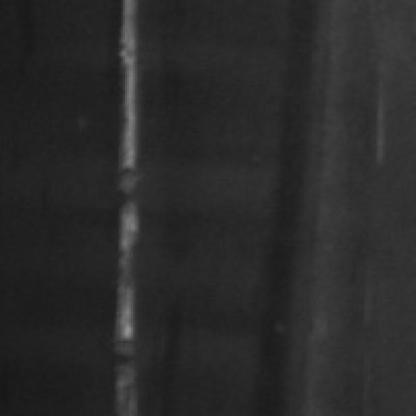scratches: (112, 4, 152, 410)
